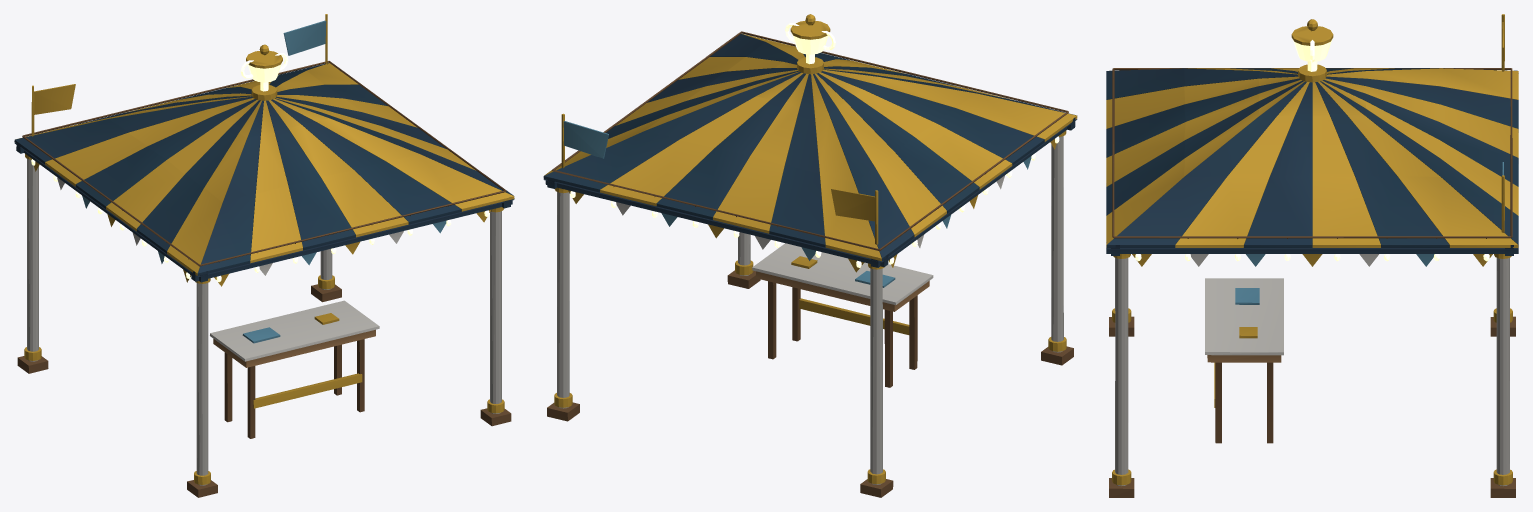
File: contest_tent_low.glb
3 views of the same model, side by side, from view 1: azimuth 30°, elevation 25°; view 2: azimuth 150°, elevation 25°; view 3: azimuth 270°, elevation 25° (orthographic). The views are drawn at different scales.
Parts seen in each view (by area): view 1: structure, flag_R_cloth, flag_L_cloth, canopy_liner; view 2: structure, flag_R_cloth, flag_L_cloth, canopy_liner; view 3: structure, canopy_liner.
Part boxes in pixels (x1,y1,x2,y2): structure: (14, 14, 514, 497); flag_R_cloth: (283, 20, 326, 55); flag_L_cloth: (34, 84, 75, 114); canopy_liner: (14, 143, 514, 277); structure: (543, 14, 1077, 497); flag_R_cloth: (563, 121, 608, 158); flag_L_cloth: (831, 188, 875, 221); canopy_liner: (543, 119, 1077, 262); structure: (1106, 14, 1518, 497); canopy_liner: (1106, 83, 1518, 249).
Bounding box in the file's own units: 4 × 4.2 × 4.
